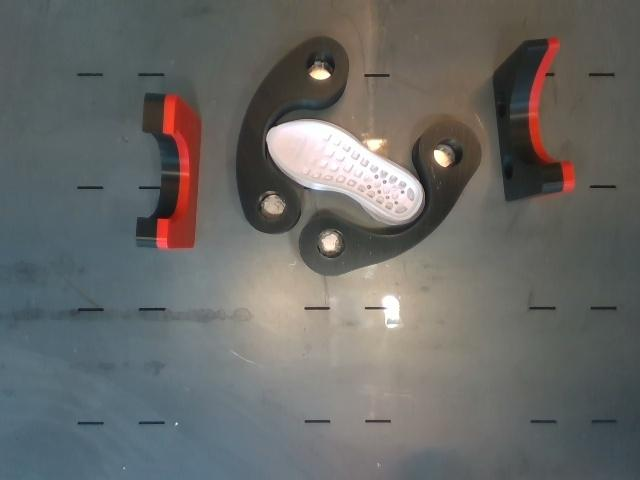shoes: (267, 122, 421, 219)
